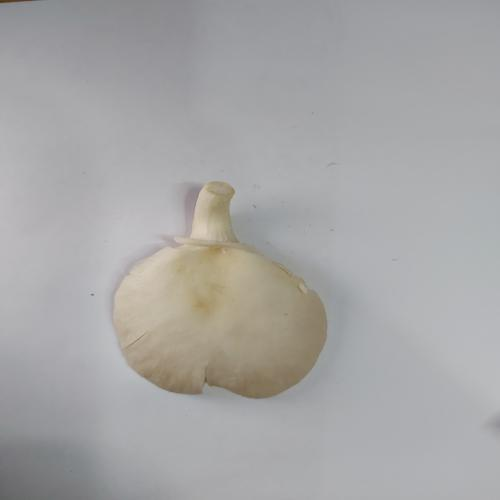Oyster Mushroom: (111, 180, 329, 399)
